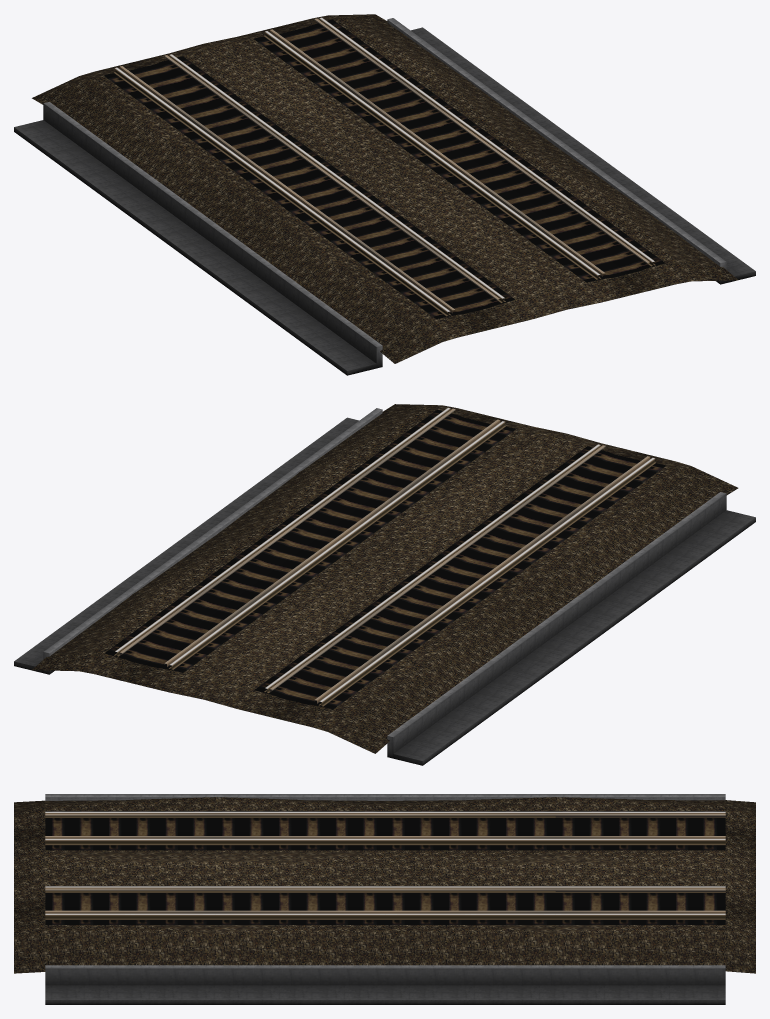
File: KIN_2RAIL_50.glb
3 views of the same model, one above another, from view 1: azimuth 30°, elevation 25°; view 2: azimuth 150°, elevation 25°; view 3: azimuth 270°, elevation 25° (orthographic). The views are drawn at different scales.
Parts seen in each view (by area): view 1: Jari_All1, R000_RG_R1, R000_RG_L1; view 2: Jari_All1, R000_RG_R1, R000_RG_L1; view 3: Jari_All1, R000_RG_L1, R000_RG_R1.
Boxes of the visible parts, x1,y1,x2,y2 form: Jari_All1: (14, 14, 755, 375); R000_RG_R1: (119, 29, 604, 313); R000_RG_L1: (164, 18, 649, 300); Jari_All1: (14, 404, 755, 765); R000_RG_R1: (164, 419, 650, 703); R000_RG_L1: (119, 408, 605, 691); Jari_All1: (14, 794, 755, 1004); R000_RG_L1: (45, 836, 725, 913); R000_RG_R1: (45, 813, 725, 891).
Size of the model in its own units: 35.42 by 3.35 by 54.53.
Materials: 7 (6 with a texture image).
